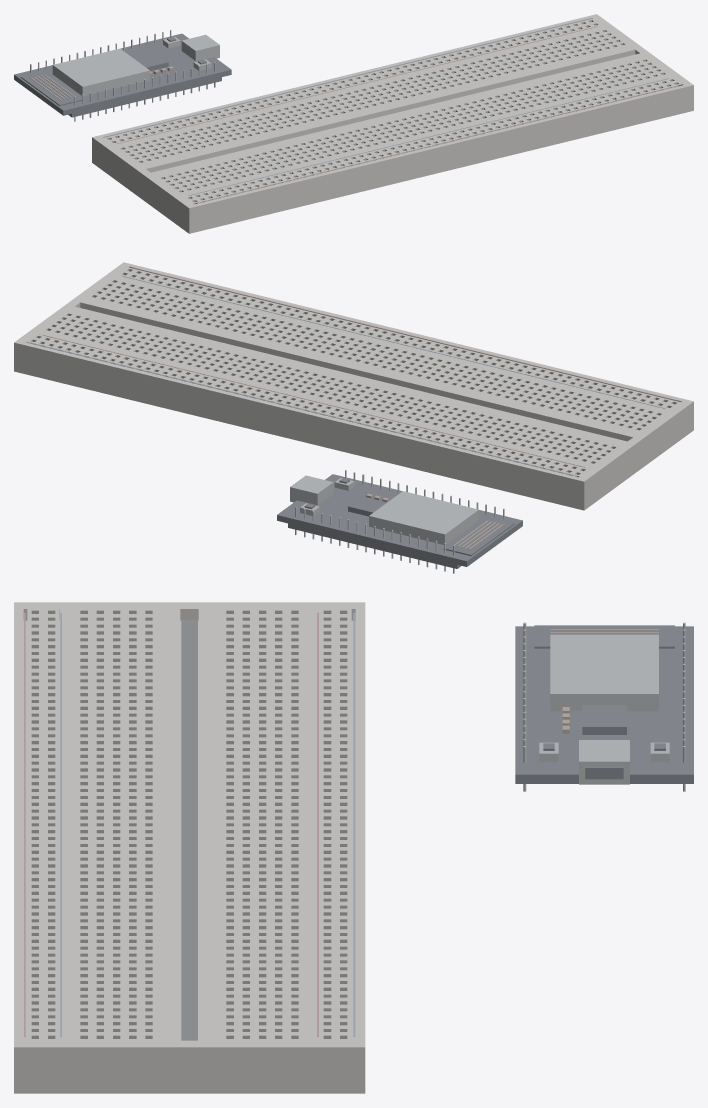
File: step-1.glb
3 views of the same model, one above another, from view 1: azimuth 30°, elevation 25°; view 2: azimuth 150°, elevation 25°; view 3: azimuth 270°, elevation 25° (orthographic). The views are drawn at different scales.
Visible parts, largest first — view 1: breadboard__mesh, uno__mesh; view 2: breadboard__mesh, uno__mesh; view 3: breadboard__mesh, uno__mesh.
Boxes of the visible parts, left/top/right/bottom form: breadboard__mesh: left=92, top=14, right=693, bottom=233; uno__mesh: left=14, top=30, right=231, bottom=121; breadboard__mesh: left=14, top=262, right=693, bottom=510; uno__mesh: left=277, top=470, right=522, bottom=573; breadboard__mesh: left=14, top=602, right=365, bottom=1093; uno__mesh: left=515, top=622, right=693, bottom=791.
Size of the model in its own units: 0.165 by 0.009 by 0.1065.
